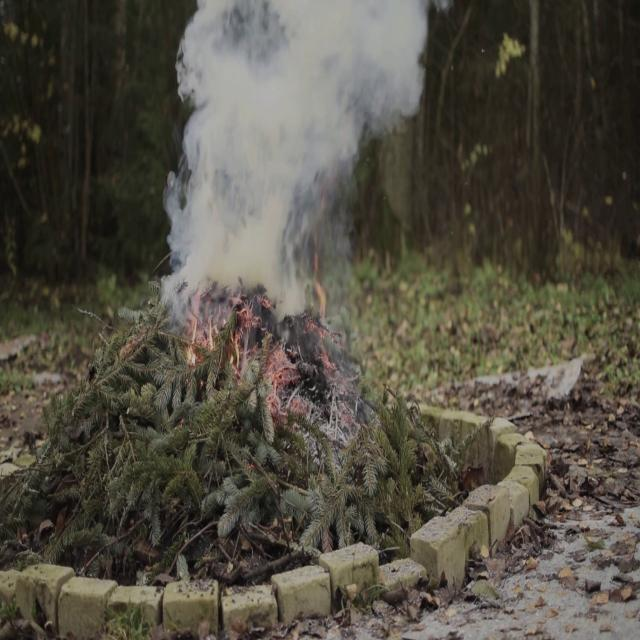Smoke: (164, 0, 426, 312)
